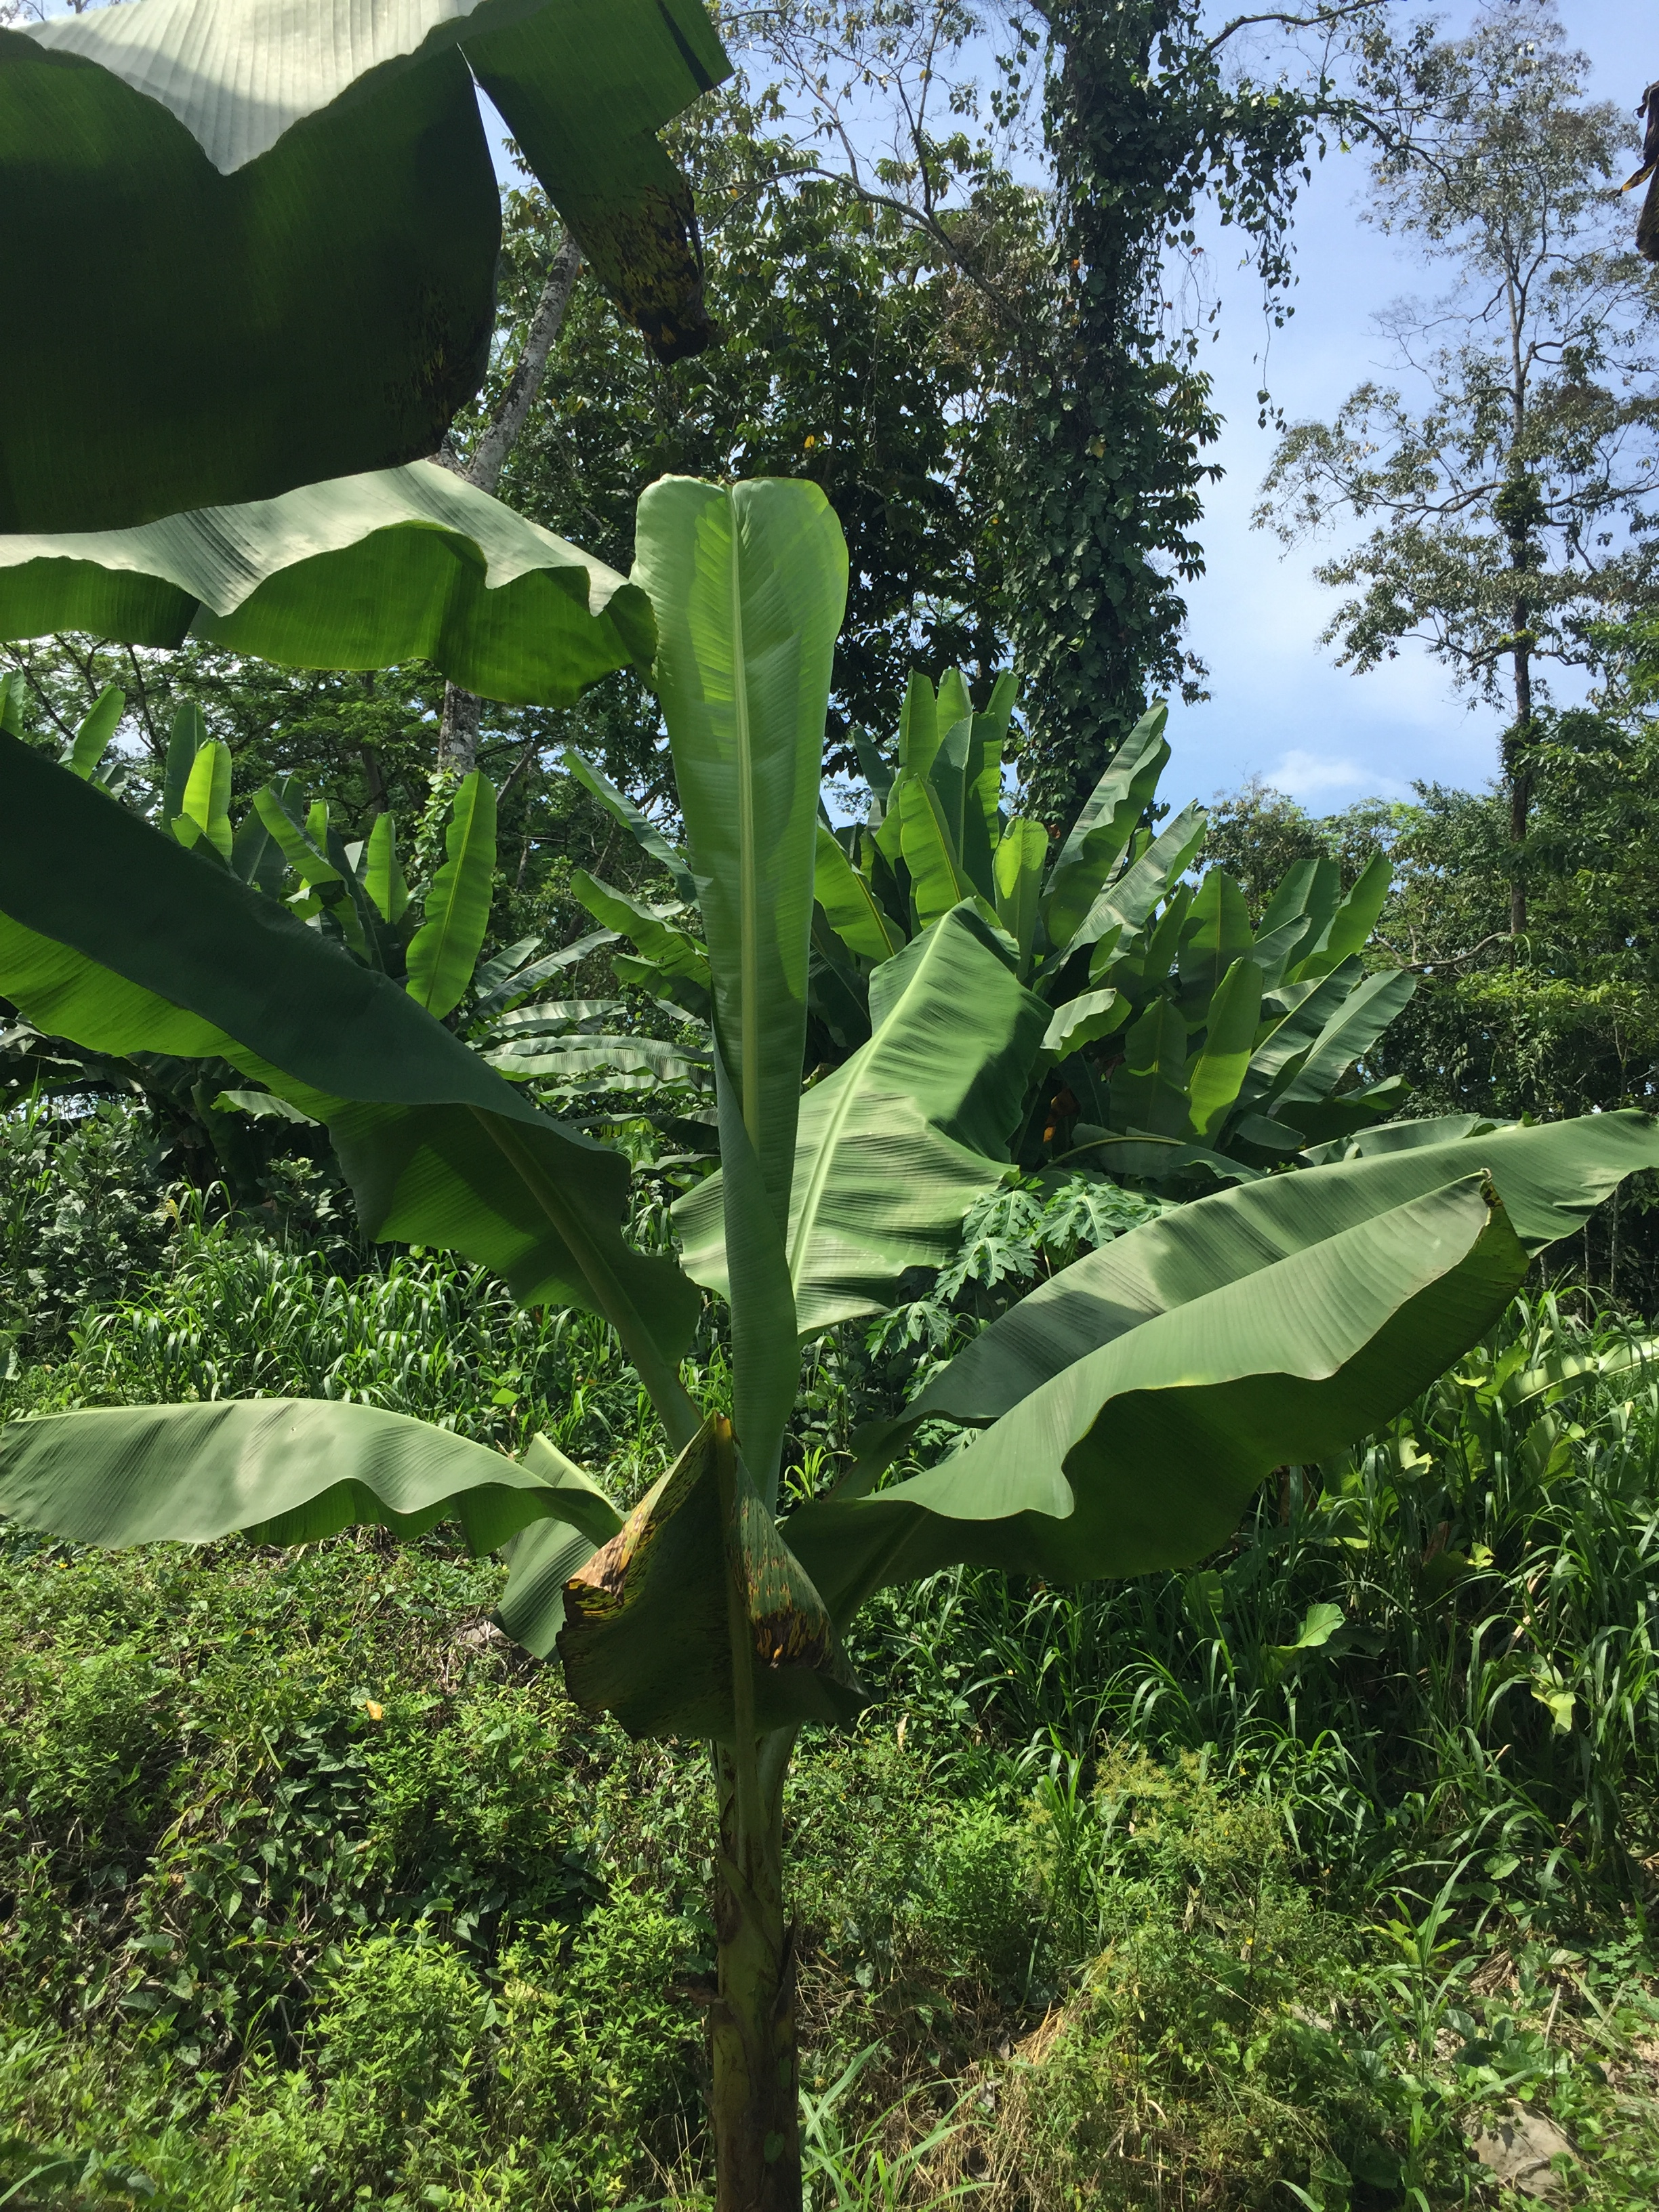candleleafs: (629, 475, 861, 1432)
